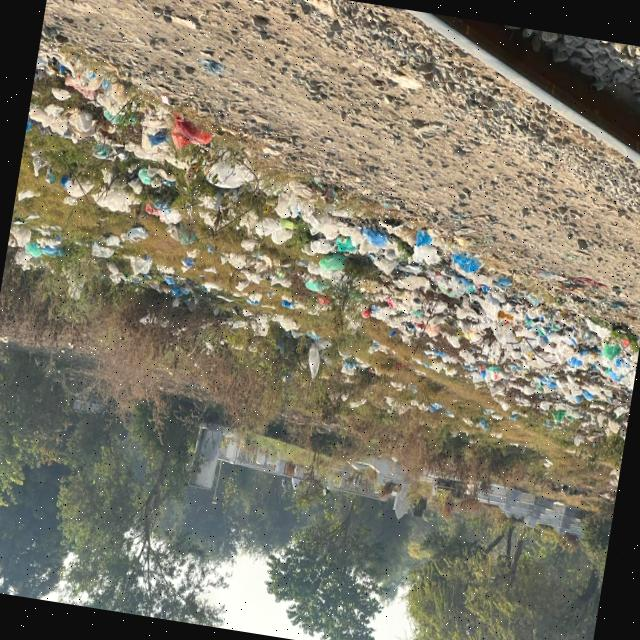garbage: (330, 190, 639, 443), (7, 100, 353, 324)
